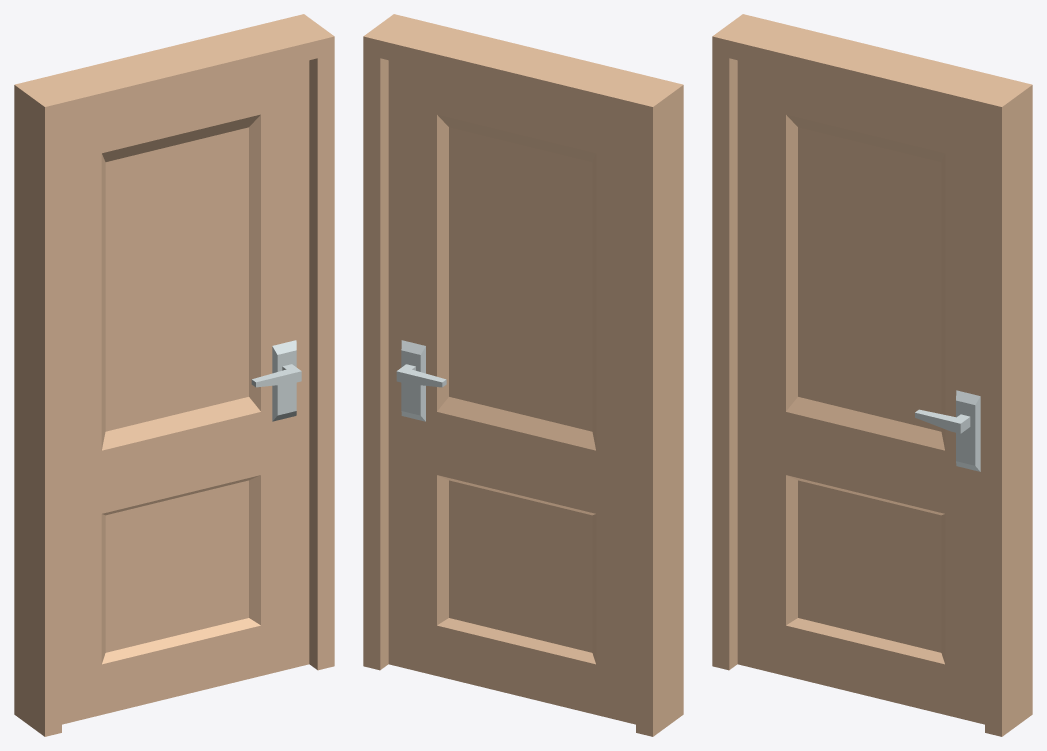
Rendered from doorway.glb.
3 renders of one model, left to right at view 1: azimuth 30°, elevation 25°; view 2: azimuth 150°, elevation 25°; view 3: azimuth 330°, elevation 25°, orthographic.
Parts seen in each view (by area): view 1: door.003, doorway(Clone); view 2: door.003, doorway(Clone); view 3: door.003, doorway(Clone).
Part boxes in pixels (left/top/right/bottom): door.003: left=62, top=60, right=309, bottom=724; doorway(Clone): left=14, top=14, right=334, bottom=736; door.003: left=388, top=60, right=635, bottom=724; doorway(Clone): left=363, top=14, right=683, bottom=736; door.003: left=737, top=60, right=984, bottom=724; doorway(Clone): left=712, top=14, right=1032, bottom=736.
Size of the model in its own units: 0.972 by 2.02 by 0.2268.
